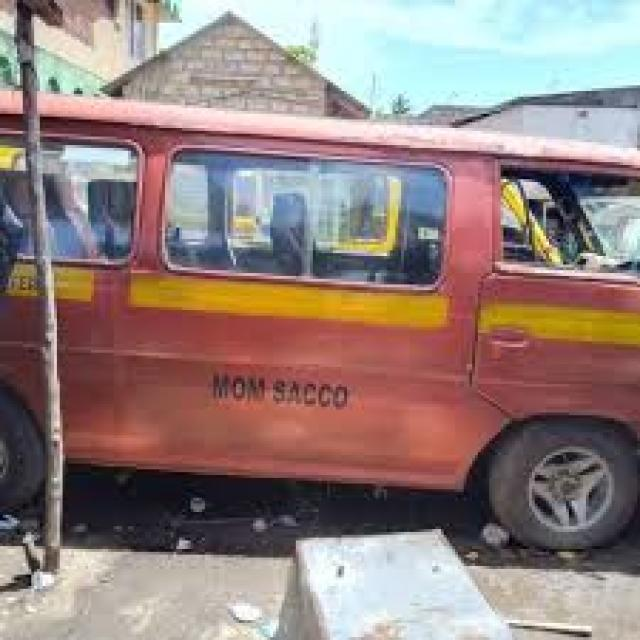matatu: (0, 62, 640, 586)
